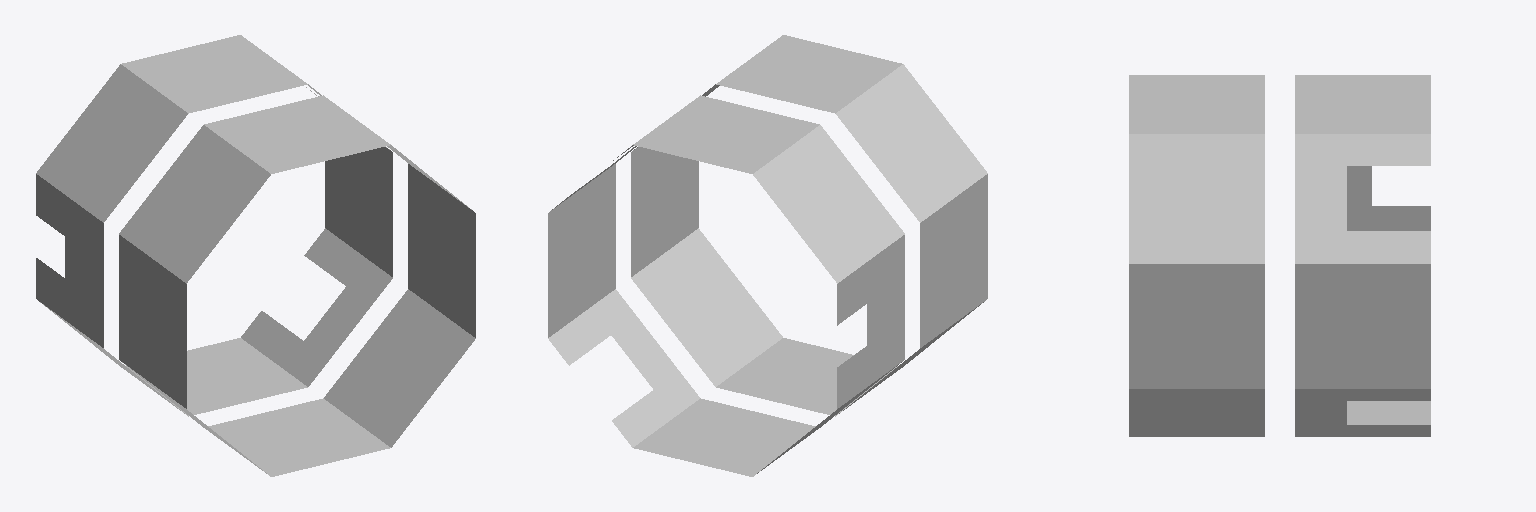
File: building_1_walls.obj
3 renders of one model, left to right at view 1: azimuth 30°, elevation 25°; view 2: azimuth 150°, elevation 25°; view 3: azimuth 270°, elevation 25°, orthographic.
Parts seen in each view (by area): view 1: Mesh_0006.rip; view 2: Mesh_0006.rip; view 3: Mesh_0006.rip.
Boxes of the visible parts, <box> form: Mesh_0006.rip: <box>36,35,475,476</box>; Mesh_0006.rip: <box>548,35,987,476</box>; Mesh_0006.rip: <box>1129,75,1430,436</box>.
Bounding box in the file's own units: 1230 × 1230 × 1110.